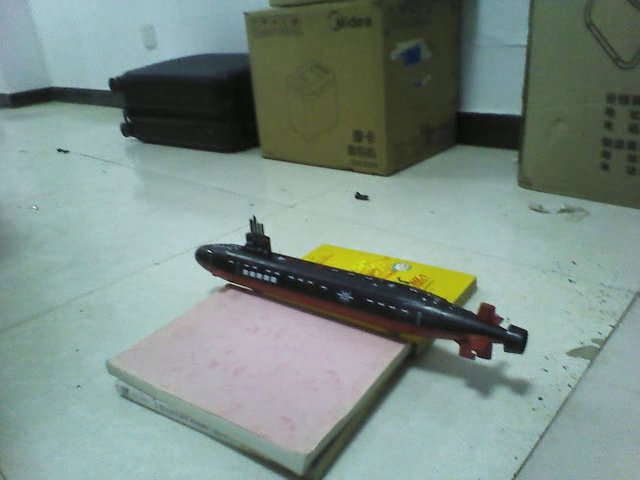submarine: (190, 216, 526, 362)
